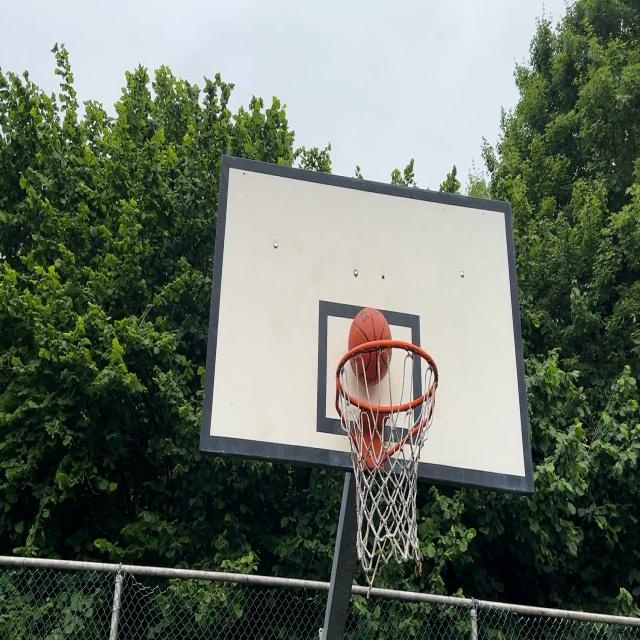rebound_hit: (350, 307, 392, 387)
